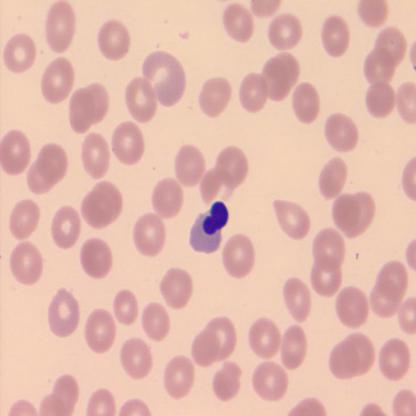NRC: (188, 199, 229, 254)
